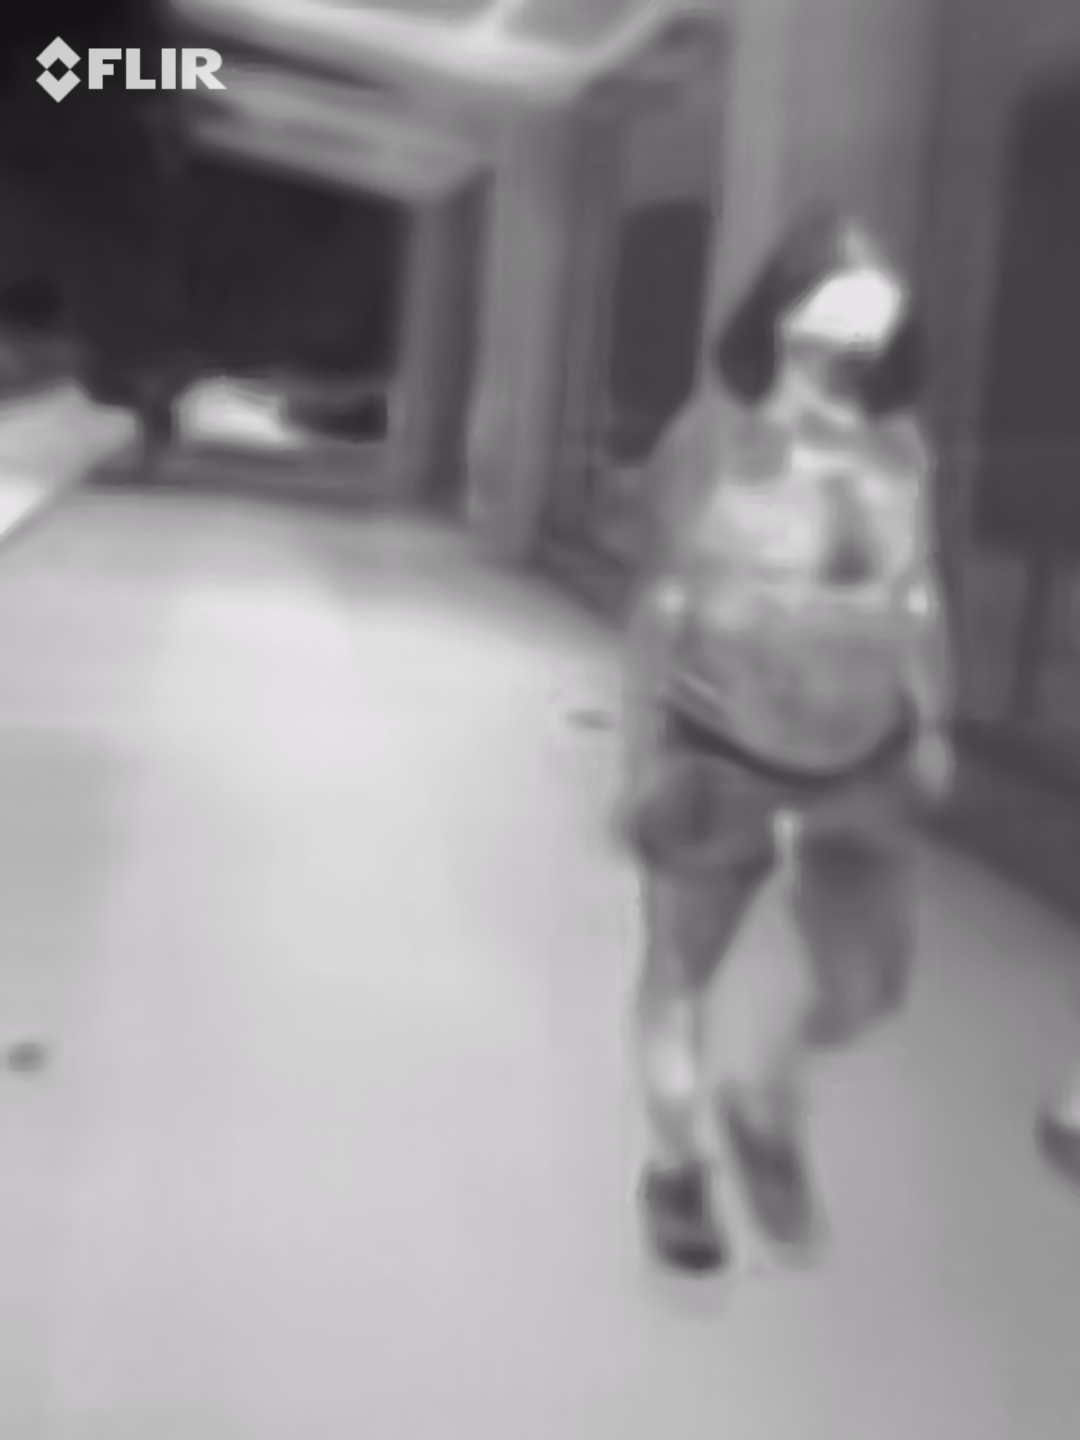head: (751, 201, 901, 409)
